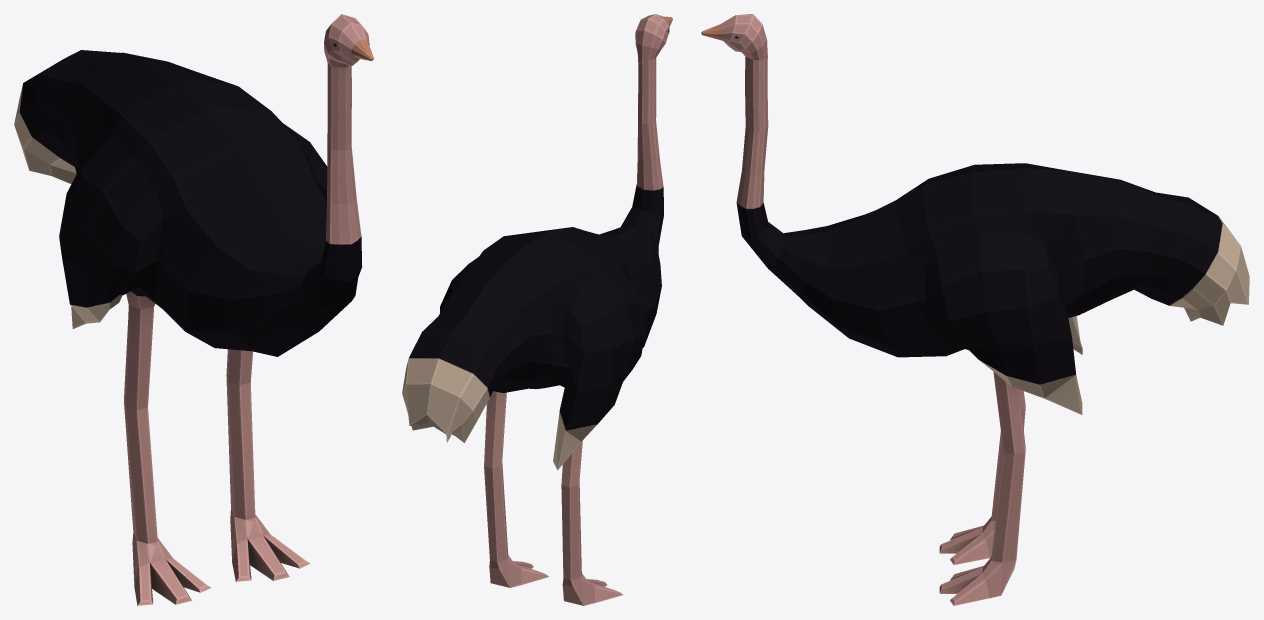
3 renders of one model, left to right at view 1: azimuth 30°, elevation 25°; view 2: azimuth 150°, elevation 25°; view 3: azimuth 270°, elevation 25°, orthographic. The views are drawn at different scales.
Parts seen in each view (by area): view 1: Ostrich_mesh; view 2: Ostrich_mesh; view 3: Ostrich_mesh.
Boxes of the visible parts, x1,y1,x2,y2 form: Ostrich_mesh: (14, 14, 373, 605); Ostrich_mesh: (402, 14, 672, 605); Ostrich_mesh: (701, 14, 1249, 605).
Size of the model in its own units: 4.26 by 11.34 by 10.15.
Materials: 1 (1 with a texture image).
